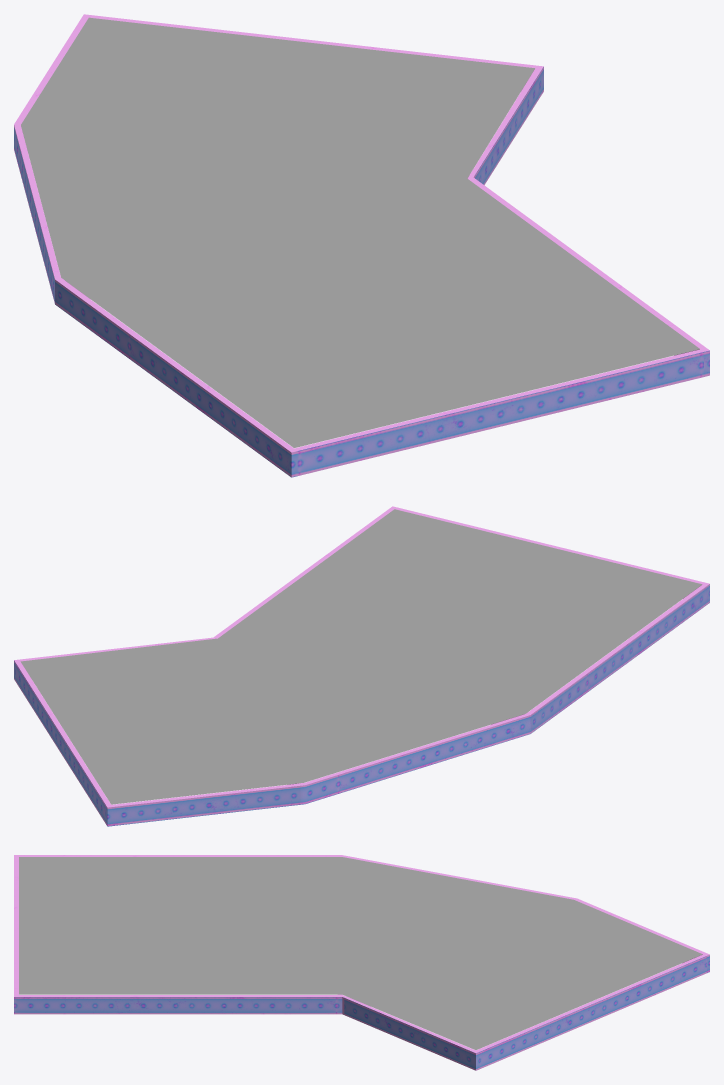
Rendered from BarracksOverhang_03_SM_Low.fbx.
3 renders of one model, top to bottom at view 1: azimuth 30°, elevation 25°; view 2: azimuth 150°, elevation 25°; view 3: azimuth 270°, elevation 25°, orthographic. The views are drawn at different scales.
Visible parts, largest first — view 1: GratedFloor, FloorSide; view 2: GratedFloor, FloorSide; view 3: GratedFloor, FloorSide.
Boxes of the visible parts, box(x1,y1,x2,y2) form: GratedFloor: box(21, 17, 699, 447); FloorSide: box(14, 14, 709, 477); GratedFloor: box(20, 509, 701, 804); FloorSide: box(14, 506, 709, 826); GratedFloor: box(19, 857, 702, 1049); FloorSide: box(14, 855, 709, 1070).
Bounding box in the file's own units: 425 × 17.66 × 631.
2 materials, 1 textured.
